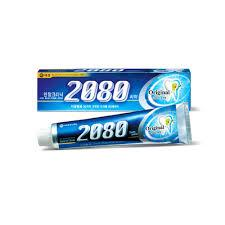toothpaste: (33, 105, 197, 162)
